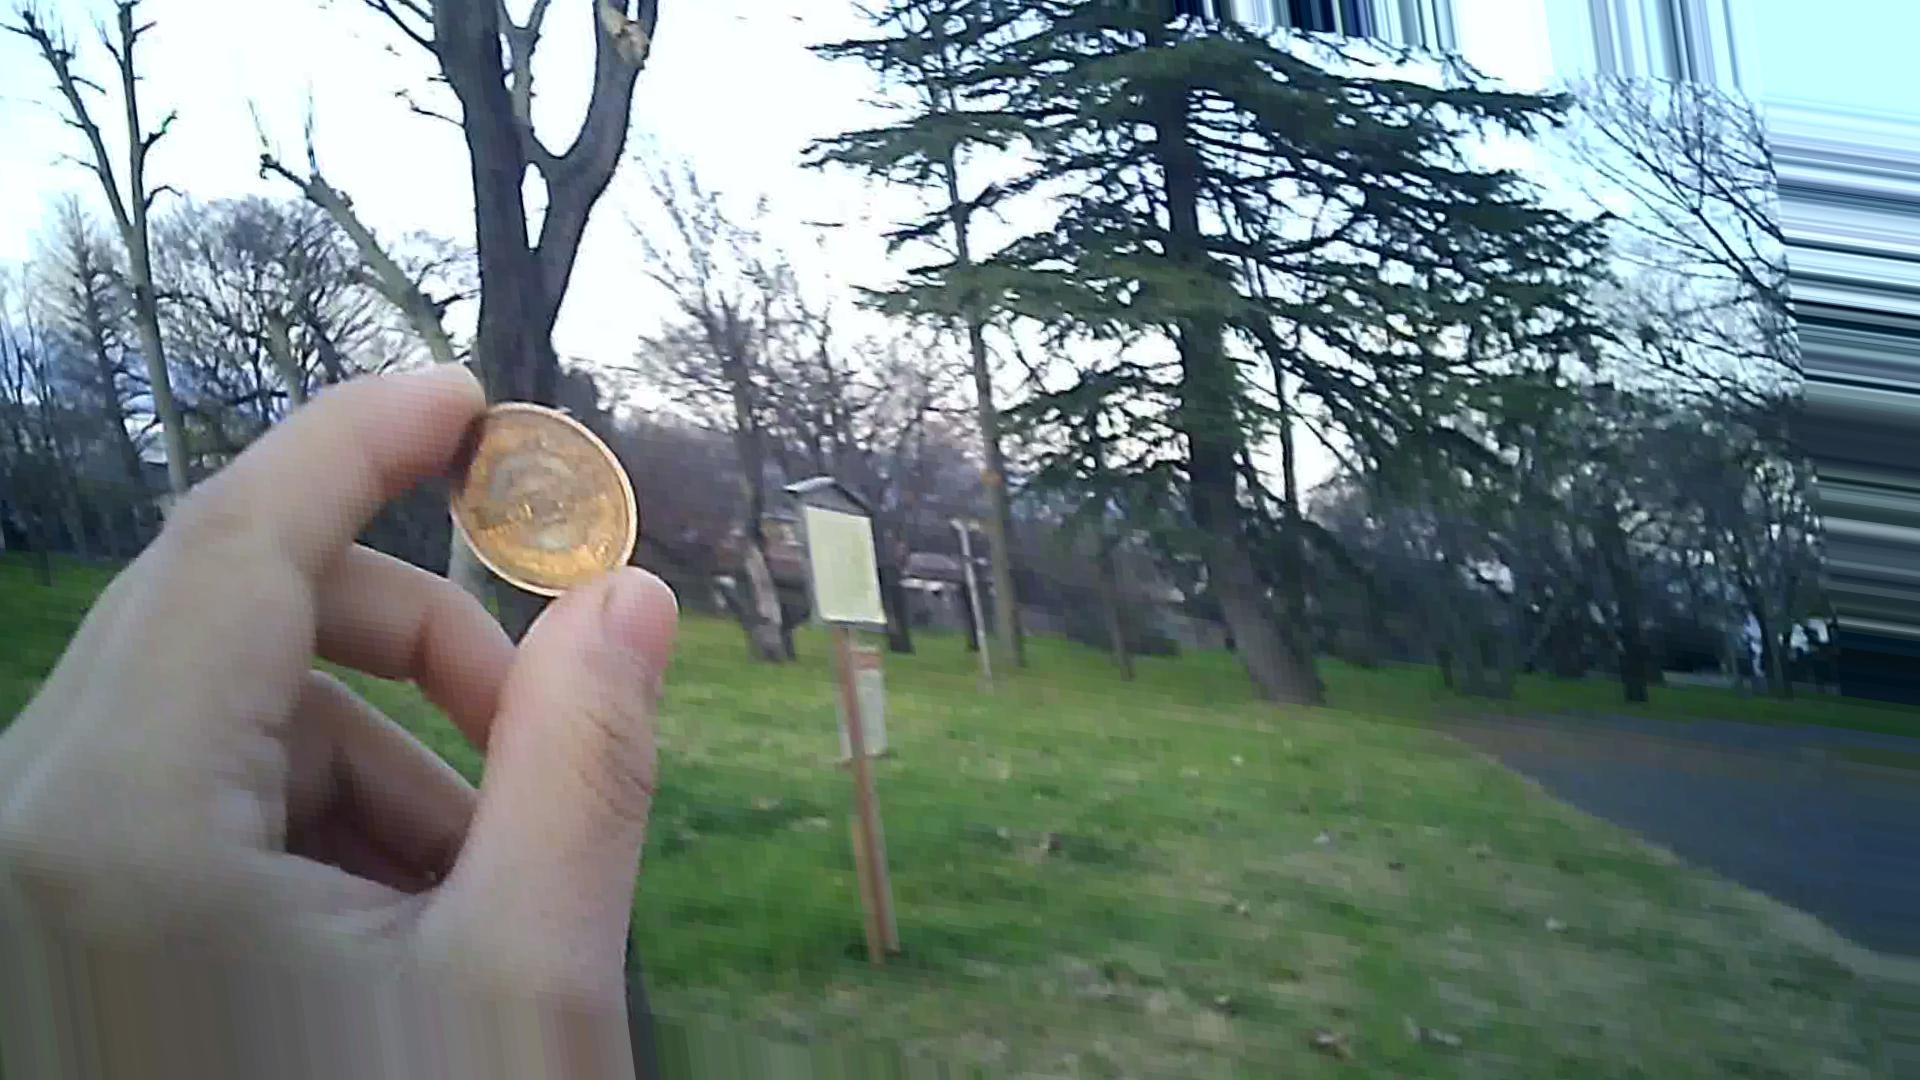10 Yen: (440, 394, 651, 624)
